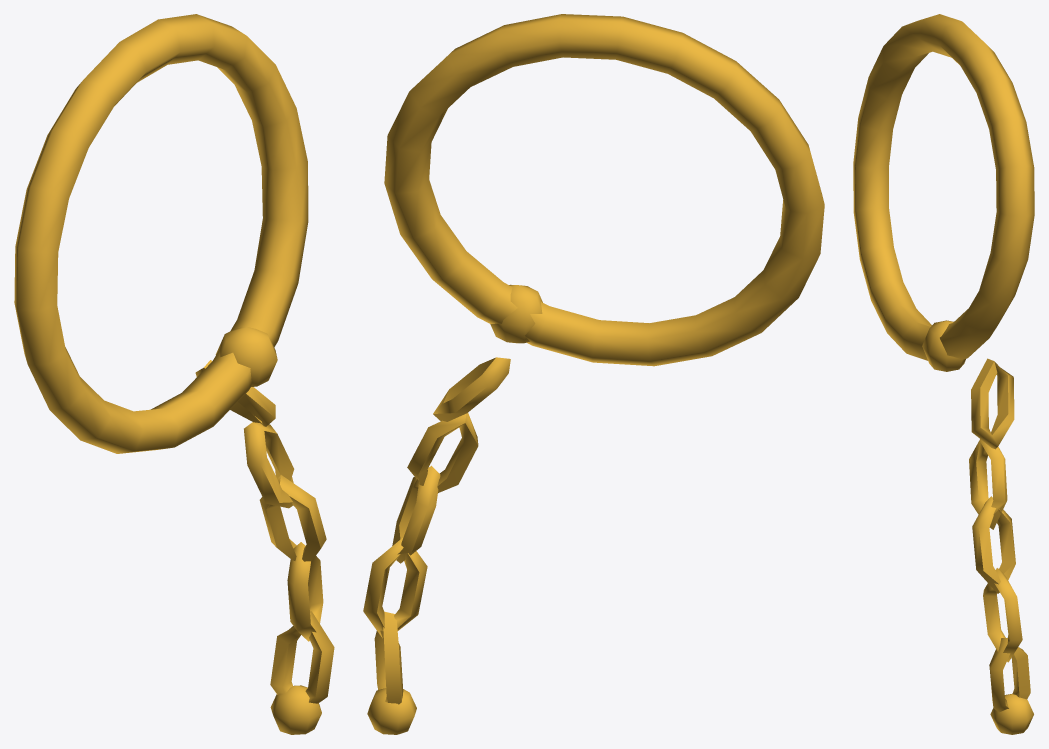
File: face_monocle.glb
3 renders of one model, left to right at view 1: azimuth 30°, elevation 25°; view 2: azimuth 150°, elevation 25°; view 3: azimuth 270°, elevation 25°, orthographic. The views are drawn at different scales.
Visible parts, largest first — view 1: Ring, Chain; view 2: Ring, Chain; view 3: Ring, Chain.
Part boxes in pixels (x1,y1,x2,y2): Ring: (14,14,308,453); Chain: (195,360,334,734); Ring: (384,14,824,366); Chain: (363,357,510,734); Ring: (853,14,1034,371); Chain: (969,358,1033,734).
Bounding box in the file's own units: 0.2697 × 0.5066 × 0.1324.
